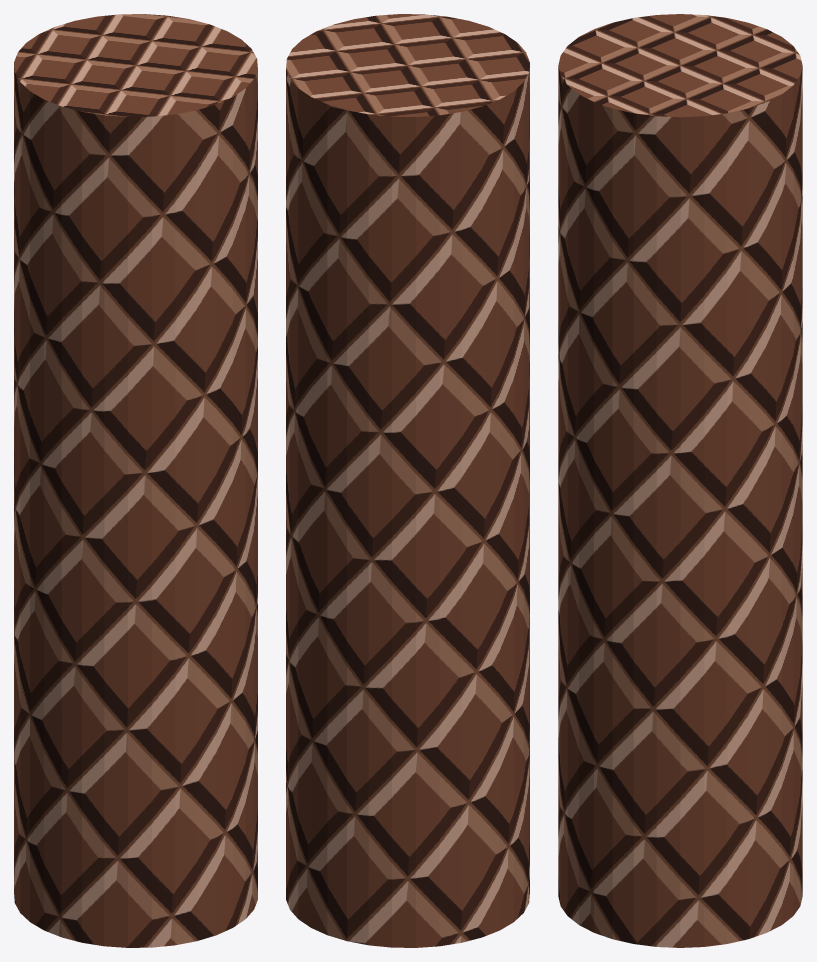
File: MilkChocolate_Cylinder.fbx
The picture shows the model from 3 angles, left to right: view 1: azimuth 30°, elevation 25°; view 2: azimuth 150°, elevation 25°; view 3: azimuth 270°, elevation 25°; orthographic projection.
Parts seen in each view (by area): view 1: Cylinder; view 2: Cylinder; view 3: Cylinder.
Boxes of the visible parts, box(x1,y1,x2,y2) form: Cylinder: box(14, 14, 257, 947); Cylinder: box(286, 14, 529, 947); Cylinder: box(558, 14, 802, 947).
Size of the model in its own units: 165 by 621 by 165.
